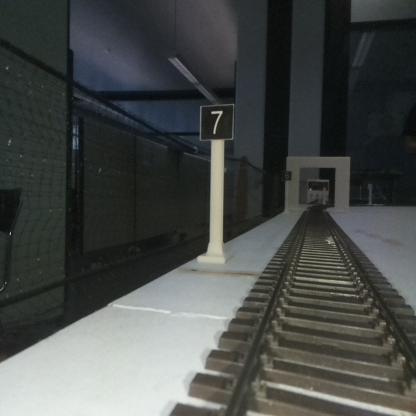black-info-7: (201, 104, 233, 262)
